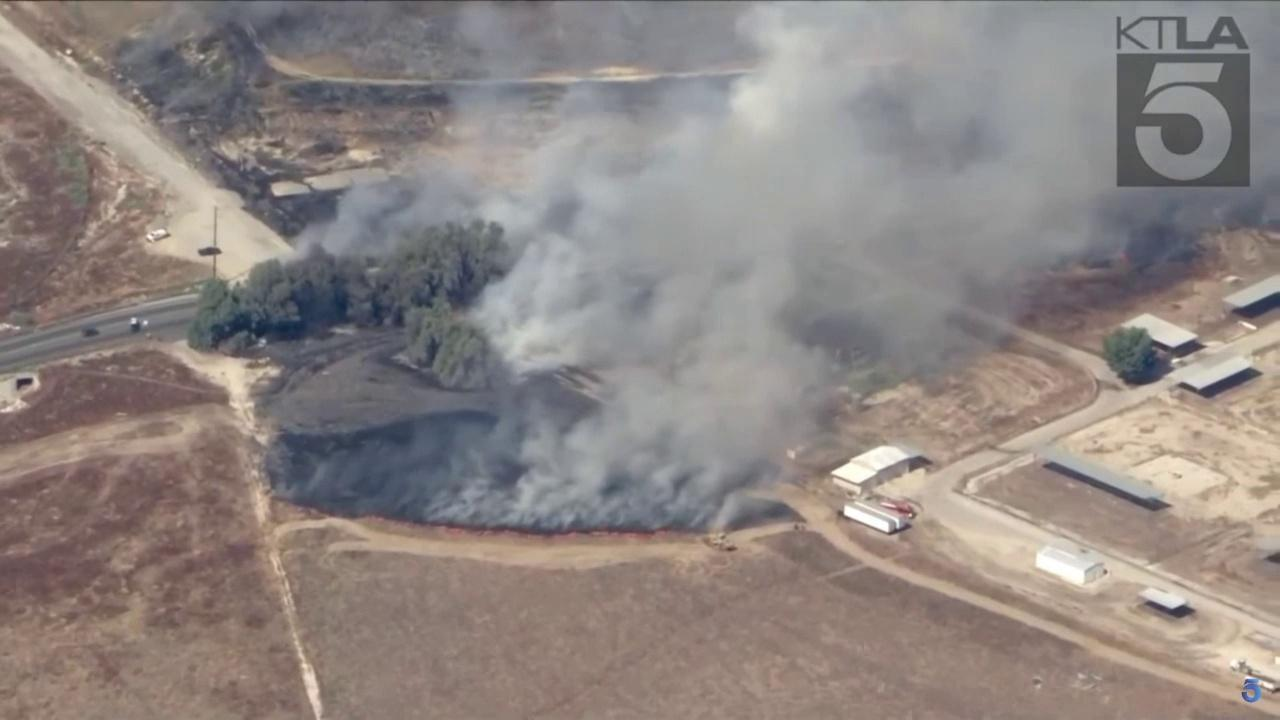fire: (437, 527, 670, 539), (367, 516, 384, 522)
smoke: (276, 0, 1280, 532), (120, 0, 398, 114)
